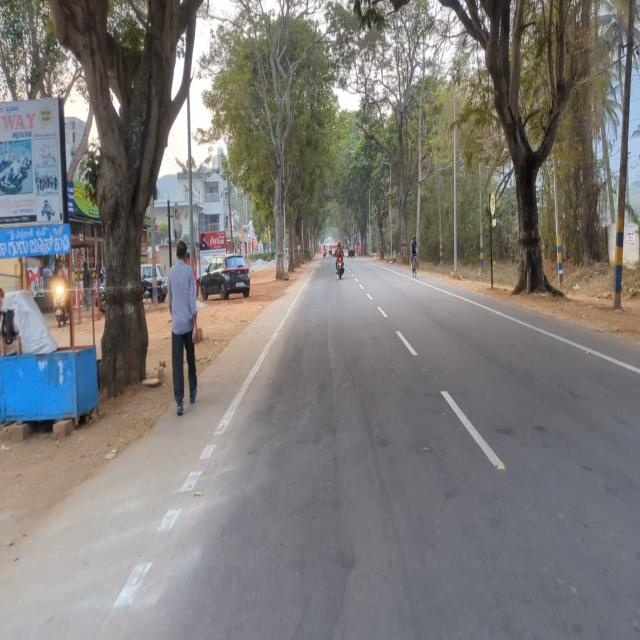bien_nguy_hiem: (488, 190, 498, 218)
